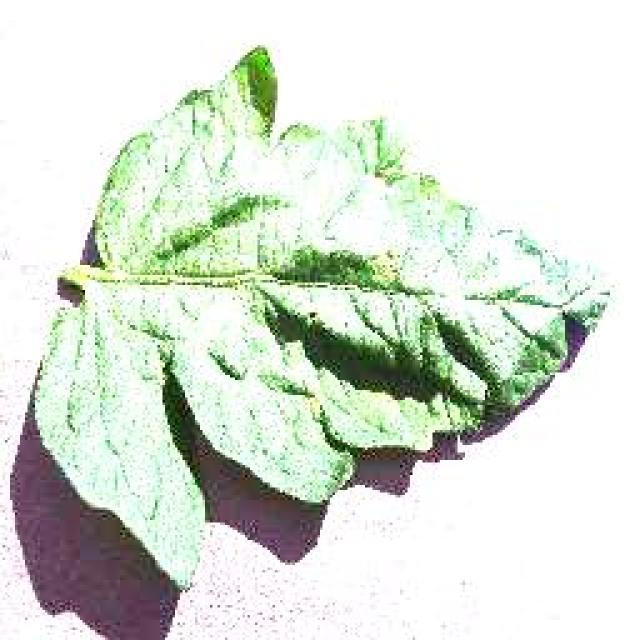Tomato___Target_Spot: (32, 48, 608, 585)
